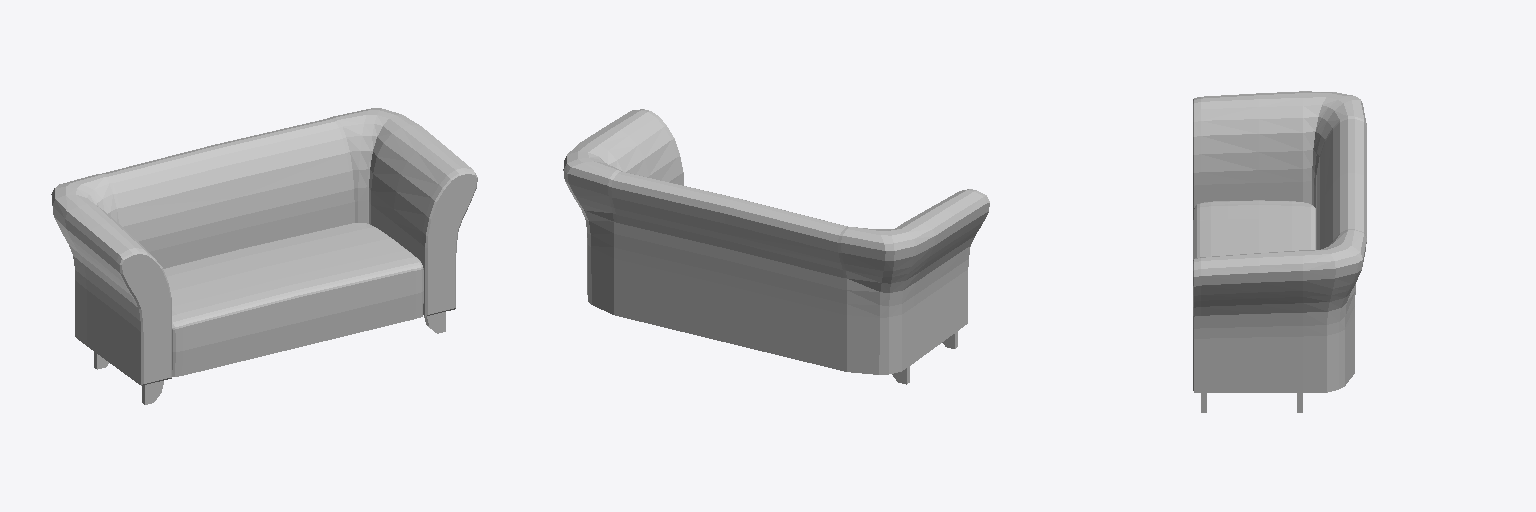
File: sofa.obj
3 views of the same model, side by side, from view 1: azimuth 30°, elevation 25°; view 2: azimuth 150°, elevation 25°; view 3: azimuth 270°, elevation 25° (orthographic).
Parts seen in each view (by area): view 1: sofa_01_Mesh; view 2: sofa_01_Mesh; view 3: sofa_01_Mesh.
Boxes of the visible parts, x1=… form: sofa_01_Mesh: x1=51, y1=108, x2=477, y2=404; sofa_01_Mesh: x1=563, y1=109, x2=989, y2=384; sofa_01_Mesh: x1=1193, y1=91, x2=1366, y2=412.
Bounding box in the file's own units: 0.9883 × 0.4394 × 0.4151.